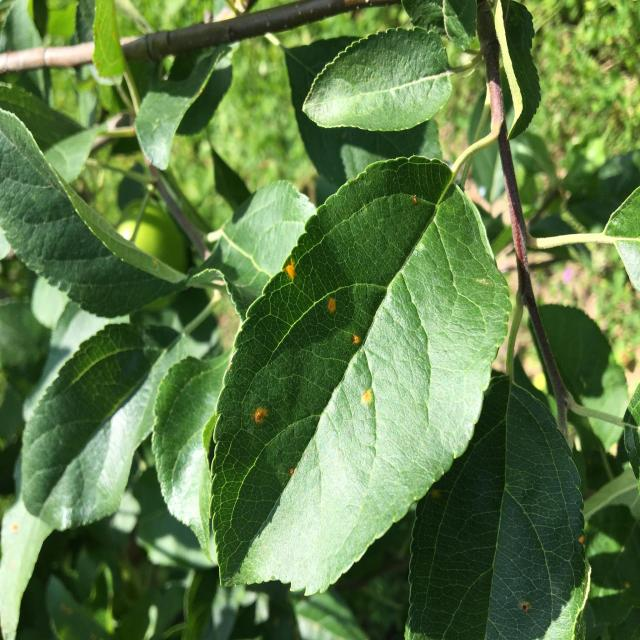Rust: (251, 402, 274, 439), (278, 256, 300, 286), (320, 293, 345, 319), (359, 387, 375, 413), (349, 328, 365, 352), (409, 191, 421, 212)
